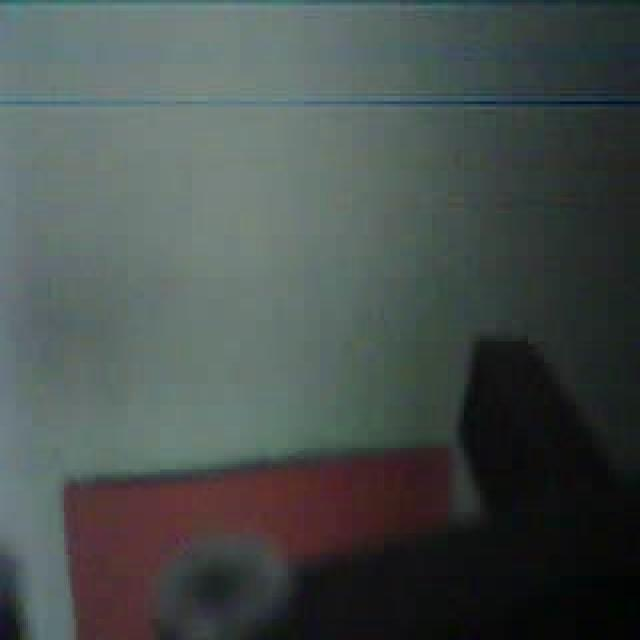red_box: (60, 440, 456, 637)
